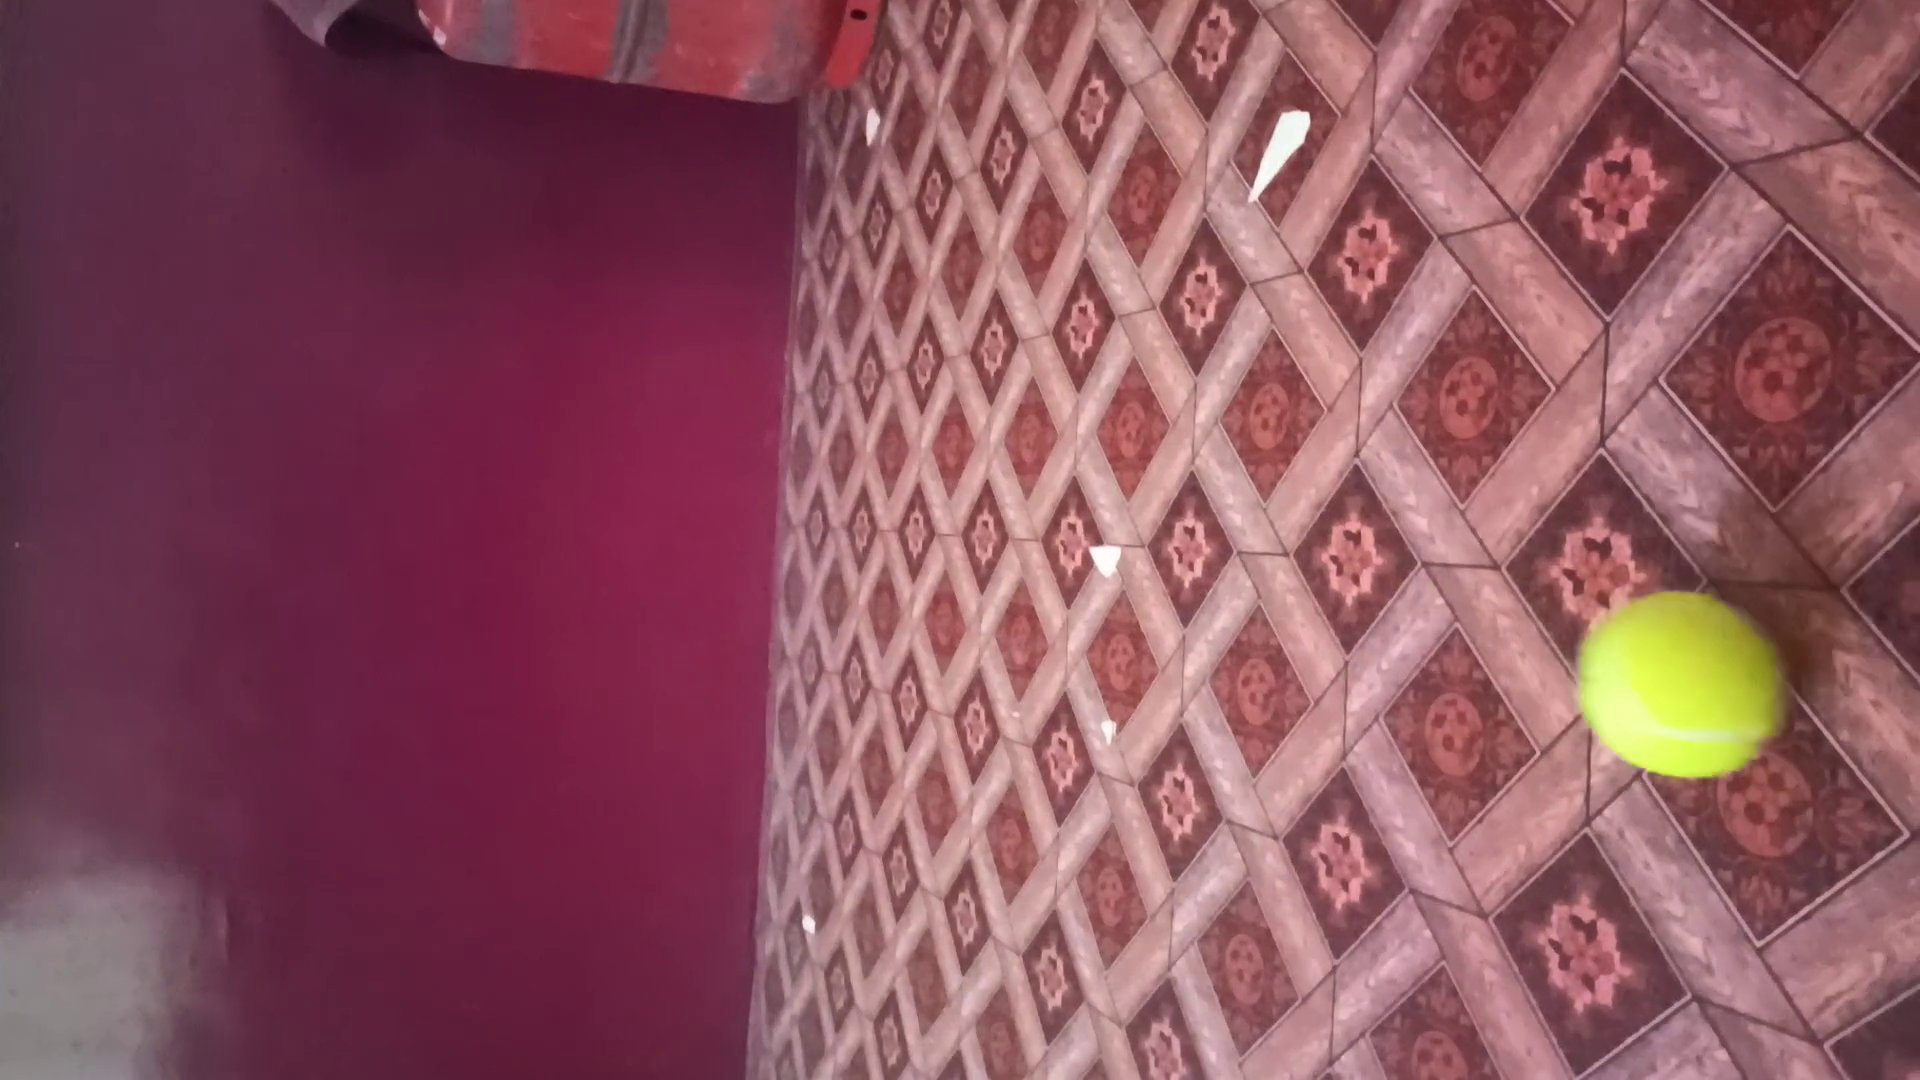Tennis-Ball: (1575, 589, 1789, 777)
